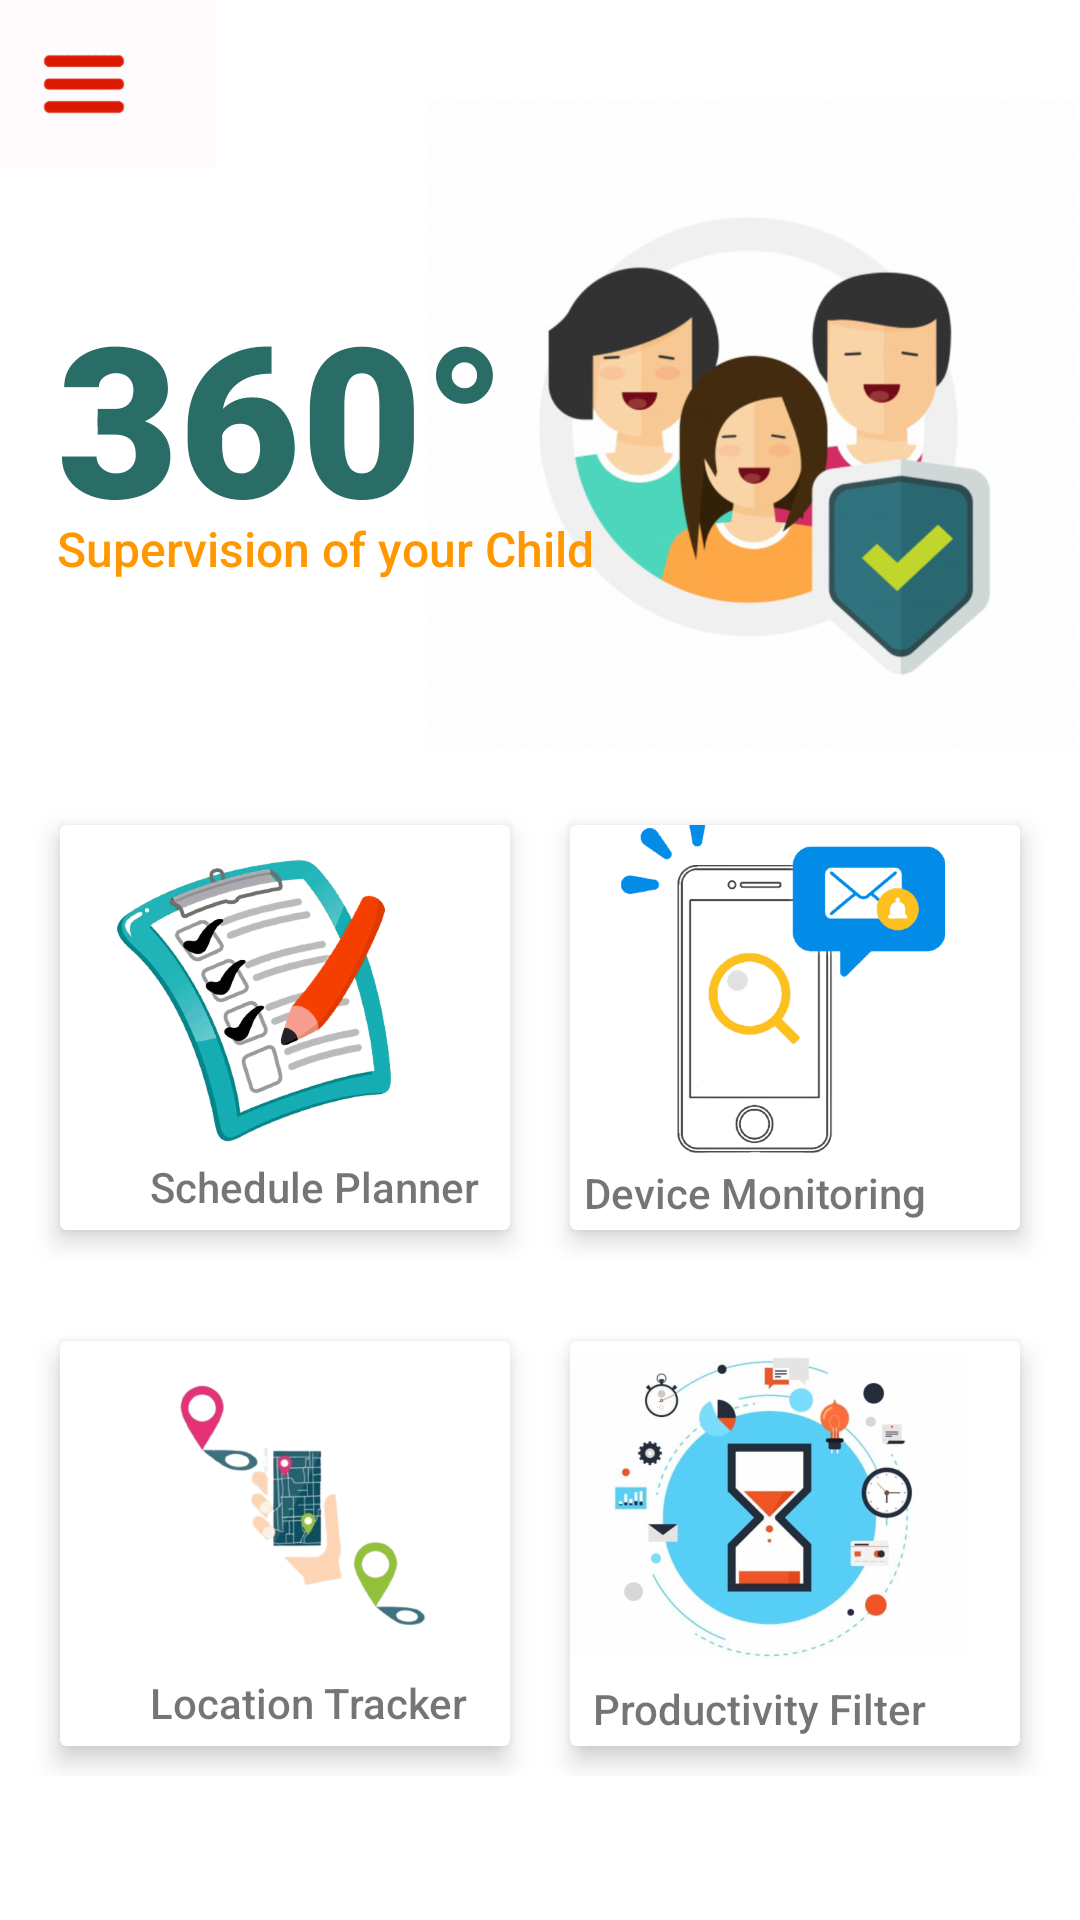

Named icons in this screenshot (1080×1920) and their centers, (x,y):
time: (763,1507)
